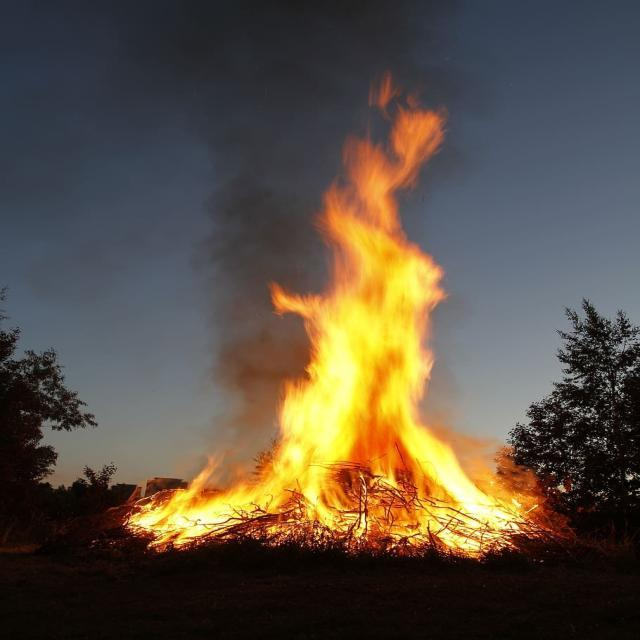Fire: (128, 74, 566, 552)
Smoke: (140, 0, 318, 402), (0, 0, 149, 301), (320, 0, 489, 100)
